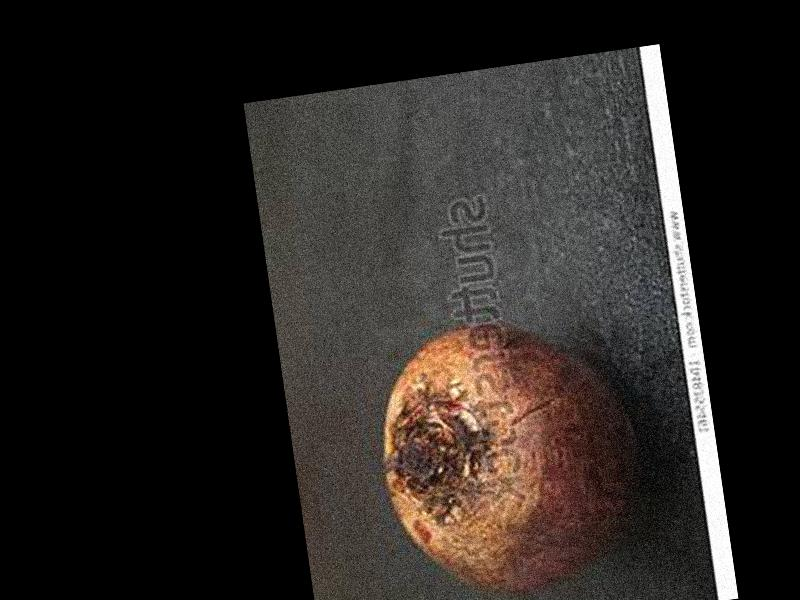Beet: (368, 308, 652, 600)
